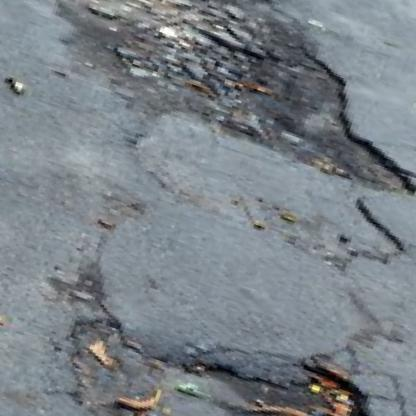pothole: (25, 0, 416, 188), (36, 277, 416, 416)
